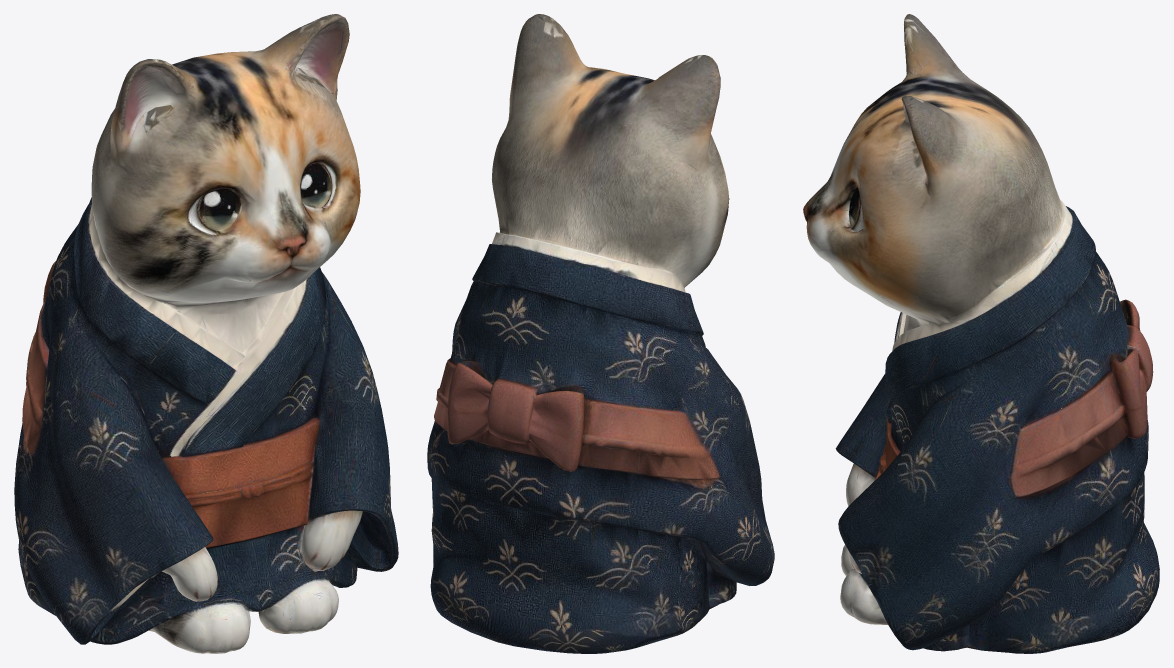
Rendered from costume-kimono_cat-calico.glb.
3 views of the same model, side by side, from view 1: azimuth 30°, elevation 25°; view 2: azimuth 150°, elevation 25°; view 3: azimuth 270°, elevation 25° (orthographic). The views are drawn at different scales.
Visible parts, largest first — view 1: Mesh_0; view 2: Mesh_0; view 3: Mesh_0.
Part boxes in pixels (x1,y1,x2,y2): Mesh_0: [14, 14, 398, 653]; Mesh_0: [427, 14, 774, 653]; Mesh_0: [803, 14, 1159, 653].
Bounding box in the file's own units: 1.19 × 1.9 × 1.15.
1 material, 1 textured.
